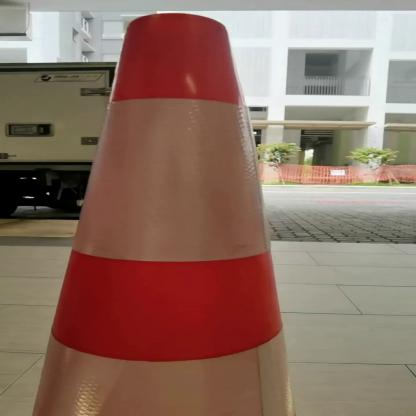cone: (10, 6, 311, 416)
